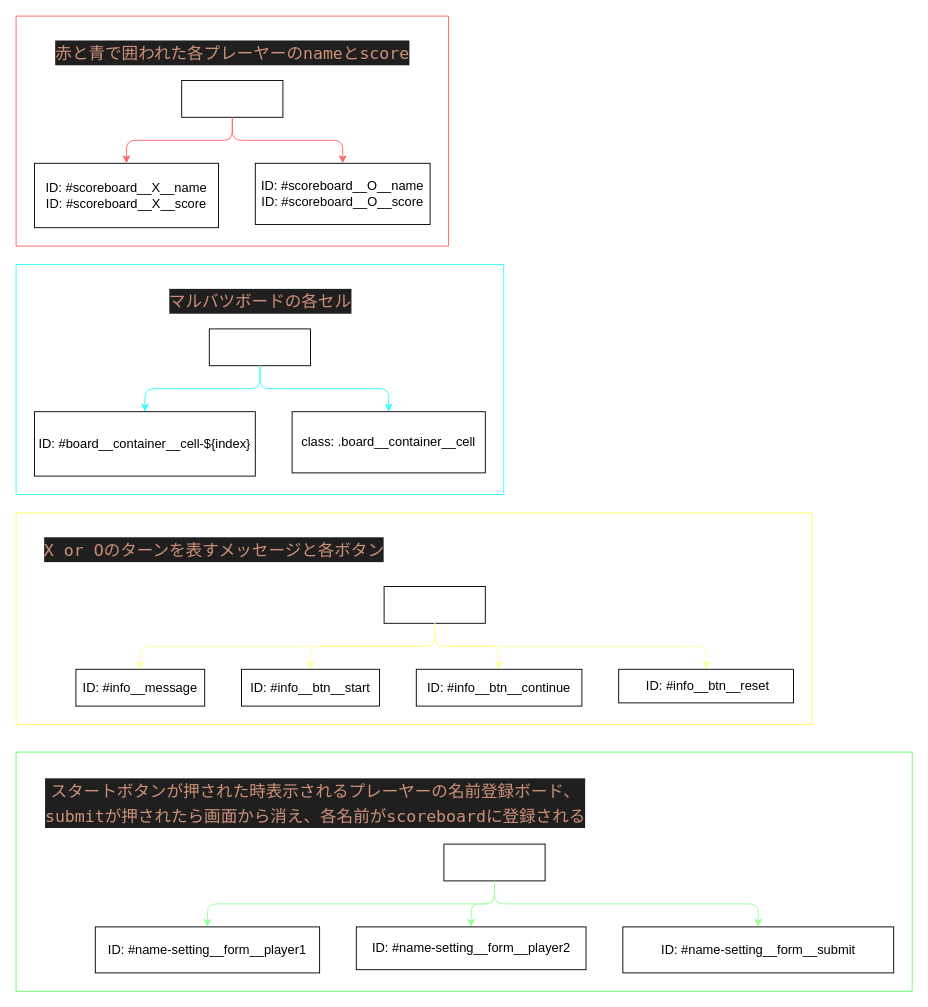
This 928x1007 diagram has some shape labels left out. The centre of each missing label's shape, as x and y in pixels:
ID: board: point 259,347
ID: info: point 434,604
ID: name-setting: point 494,862
ID: scoreboard: point 232,98
